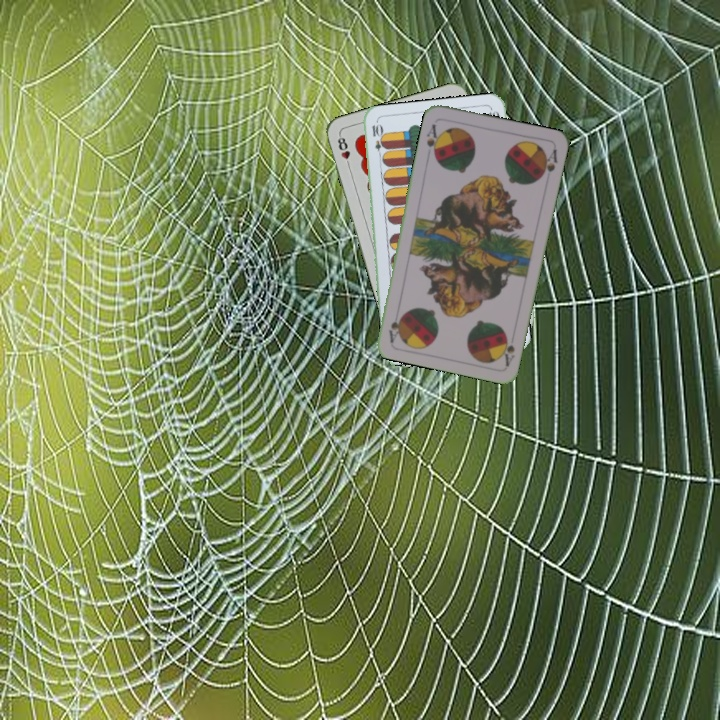E10: (368, 120, 385, 161)
H8: (333, 131, 353, 171)
SA: (497, 329, 517, 369), (423, 120, 443, 159)
